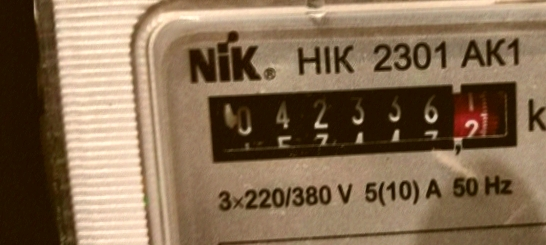0: (231, 104, 252, 138)
1: (461, 88, 474, 115)
2: (307, 97, 330, 132), (459, 119, 477, 141)
3: (344, 94, 364, 127), (383, 92, 402, 125)
4: (271, 99, 290, 131)
6: (418, 93, 440, 128)
screen: (192, 69, 531, 175)
